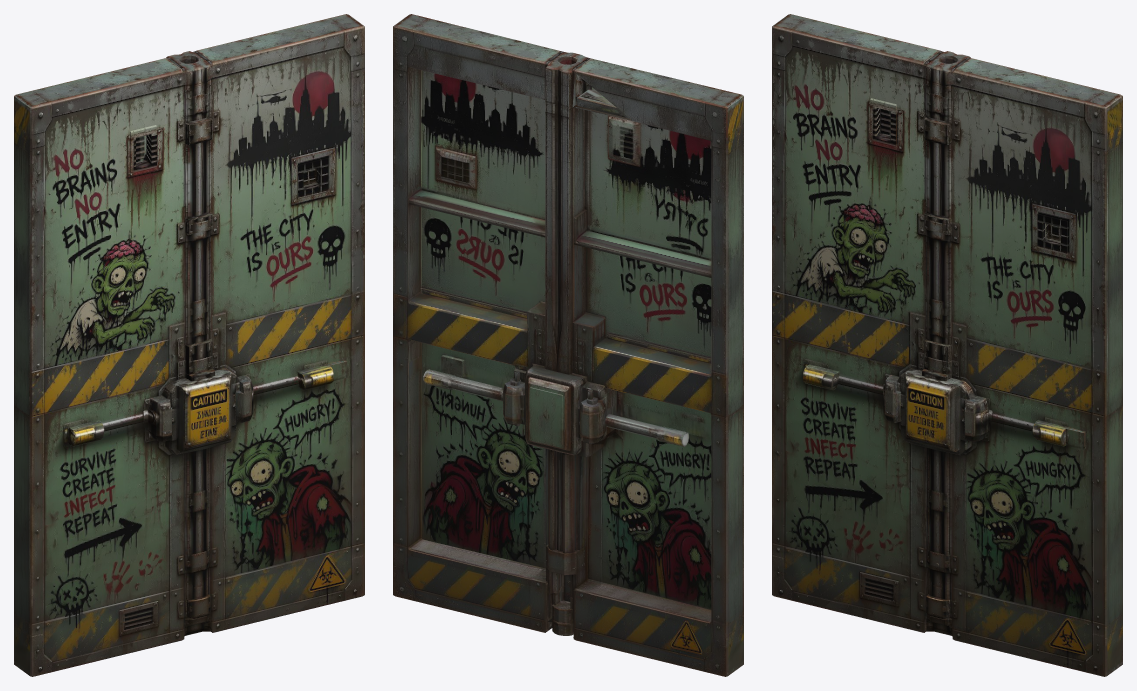
The model's file is Concrete_large_Door_3.glb.
3 renders of one model, left to right at view 1: azimuth 30°, elevation 25°; view 2: azimuth 150°, elevation 25°; view 3: azimuth 330°, elevation 25°, orthographic.
Size of the model in its own units: 1.17 by 1.91 by 0.2583.
Materials: 1 (1 with a texture image).
